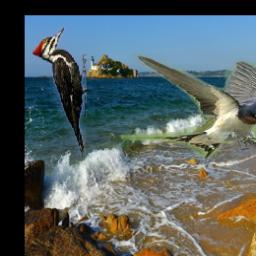Swallow: (122, 53, 256, 158)
Woodpecker: (32, 28, 87, 162)
